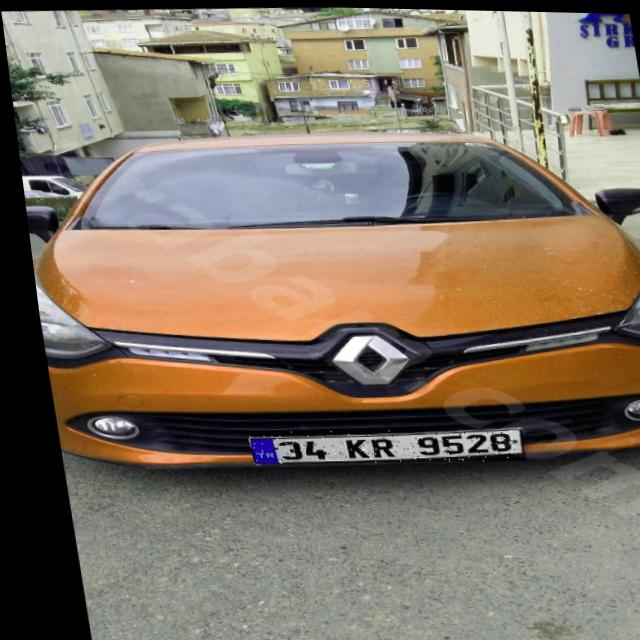license_plate: (236, 421, 518, 468)
